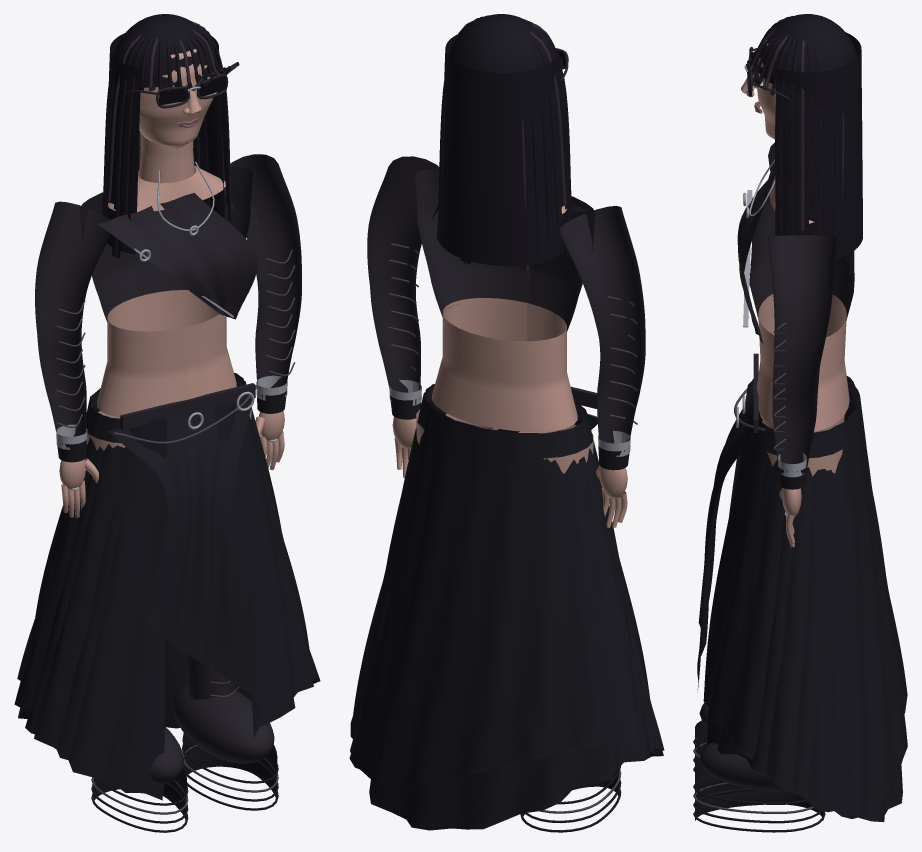
The model's file is look-6-detail.glb.
3 views of the same model, side by side, from view 1: azimuth 30°, elevation 25°; view 2: azimuth 150°, elevation 25°; view 3: azimuth 270°, elevation 25° (orthographic). The views are drawn at different scales.
Parts seen in each view (by area): view 1: look-6-detail, arm-0, arm-1, leg-1, leg-0; view 2: look-6-detail, arm-0, arm-1, leg-0; view 3: look-6-detail, arm-1, leg-1, leg-0.
Boxes of the visible parts, box(x1,y1,x2,y2) form: look-6-detail: box(14, 14, 320, 800); arm-0: box(35, 201, 110, 517); arm-1: box(224, 154, 301, 470); leg-1: box(172, 407, 278, 810); leg-0: box(87, 411, 188, 832); look-6-detail: box(349, 14, 664, 830); arm-0: box(559, 206, 645, 527); arm-1: box(367, 156, 439, 477); leg-0: box(518, 424, 621, 832); look-6-detail: box(697, 14, 907, 821); arm-1: box(768, 235, 836, 547); leg-1: box(693, 430, 842, 832); leg-0: box(693, 415, 844, 771).
Size of the model in its own units: 0.7945 by 2.04 by 0.51.
